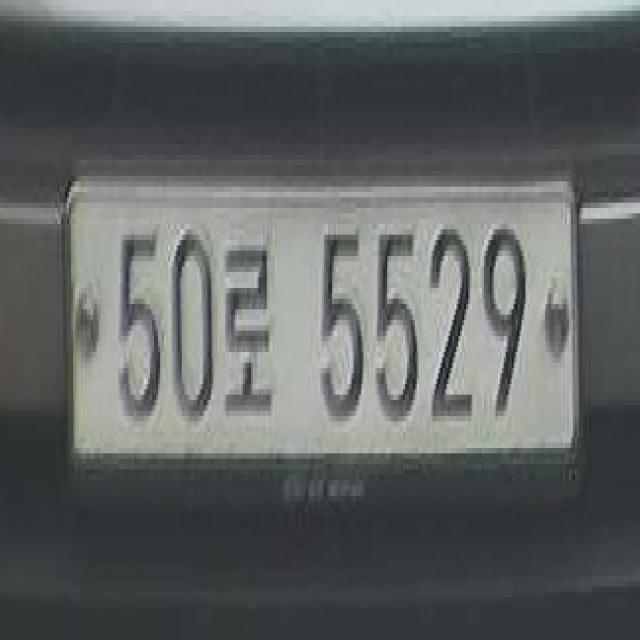0: (170, 228, 216, 426)
2: (427, 214, 477, 438)
5: (374, 220, 422, 439), (115, 218, 163, 437), (321, 226, 364, 433)
9: (480, 213, 536, 437)
license_plate: (52, 166, 584, 480)
lo: (220, 233, 280, 432)
